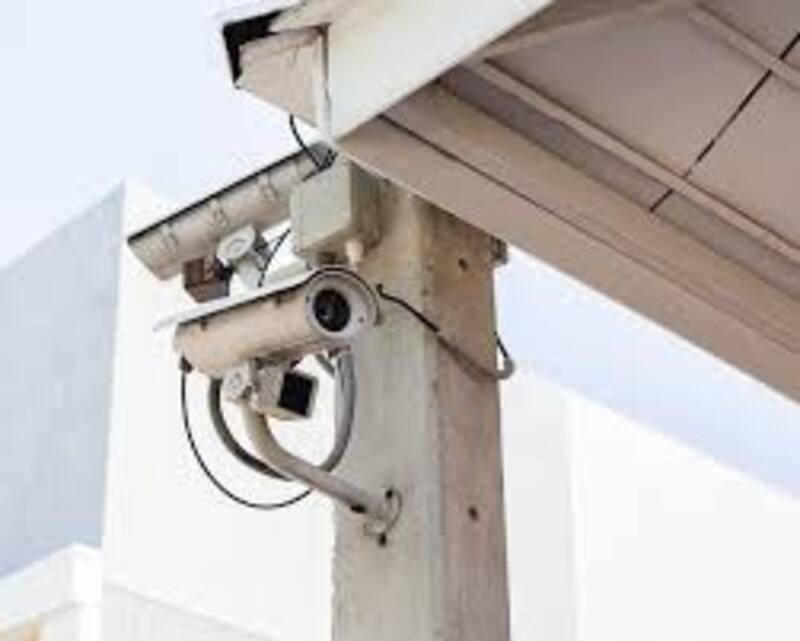box: (128, 301, 384, 409)
